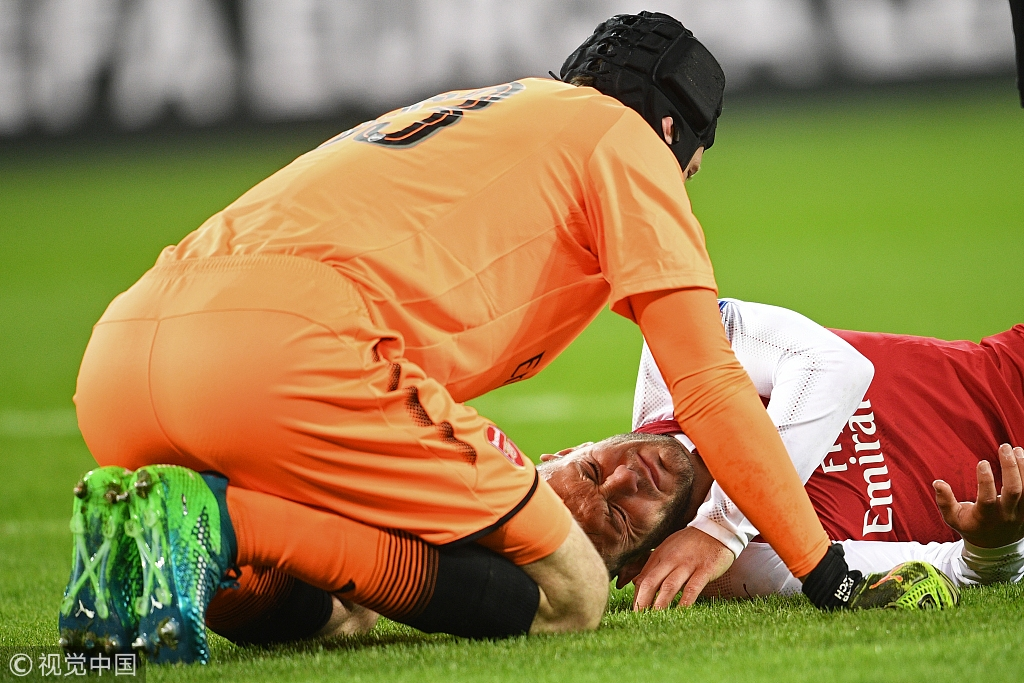fall: (52, 7, 955, 668)
